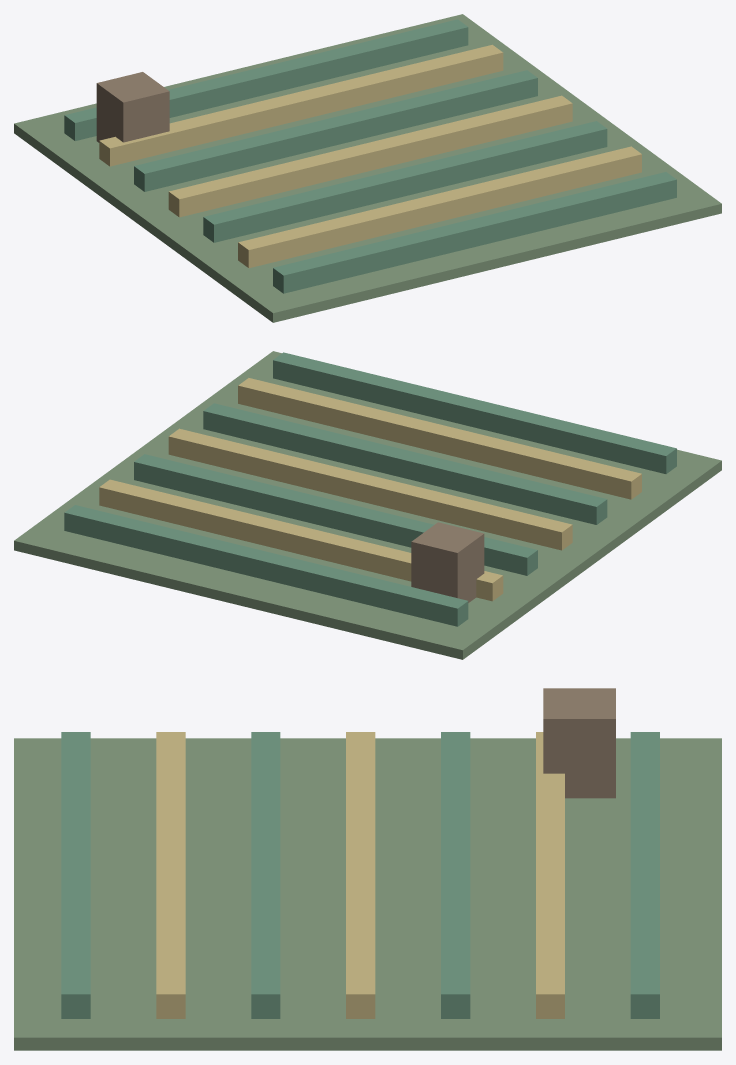
File: farm_2x2.glb
3 renders of one model, top to bottom at view 1: azimuth 30°, elevation 25°; view 2: azimuth 150°, elevation 25°; view 3: azimuth 270°, elevation 25°, orthographic. The views are drawn at different scales.
Visible parts, largest first — view 1: farm_2x2; view 2: farm_2x2; view 3: farm_2x2.
Boxes of the visible parts, x1=… form: farm_2x2: x1=14, y1=14, x2=721, y2=322; farm_2x2: x1=14, y1=351, x2=721, y2=659; farm_2x2: x1=14, y1=688, x2=721, y2=1050.
Bounding box in the file's own units: 3.88 × 0.56 × 3.88.
